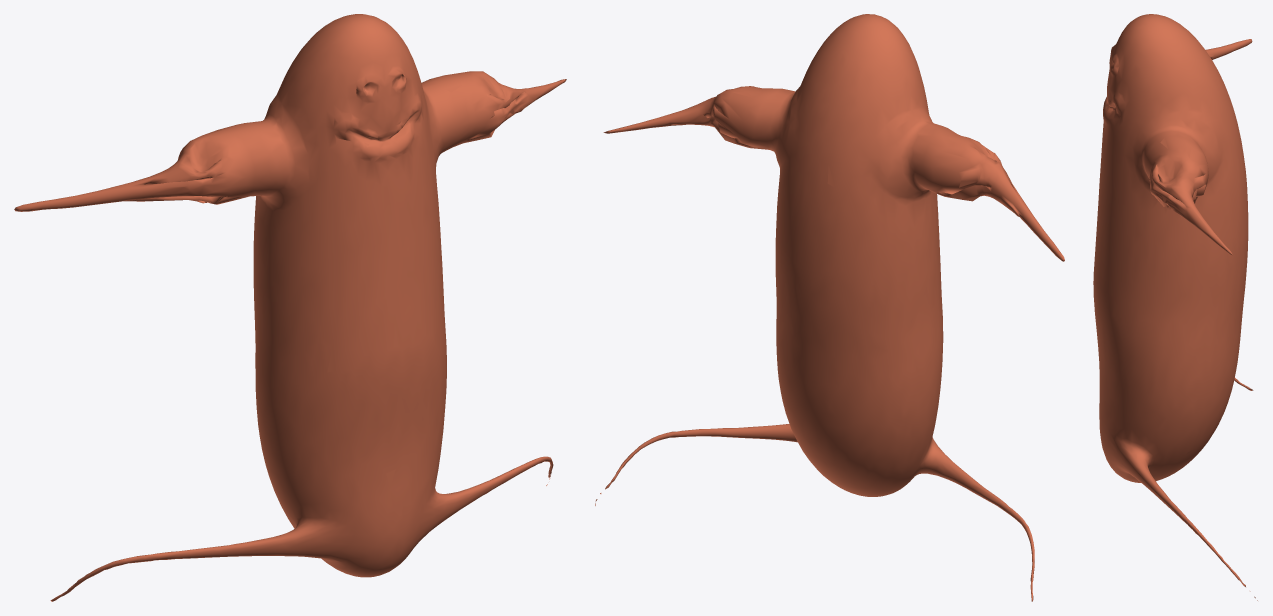
The model's file is GlizzyMonster.fbx.
The picture shows the model from 3 angles, left to right: view 1: azimuth 30°, elevation 25°; view 2: azimuth 150°, elevation 25°; view 3: azimuth 270°, elevation 25°; orthographic projection. The views are drawn at different scales.
Parts seen in each view (by area): view 1: Body; view 2: Body; view 3: Body.
Part boxes in pixels (bbox=[...]): Body: bbox=[14, 14, 566, 601]; Body: bbox=[595, 14, 1064, 601]; Body: bbox=[1093, 14, 1257, 600].
Bounding box in the file's own units: 3.15 × 3.2 × 0.9935.
